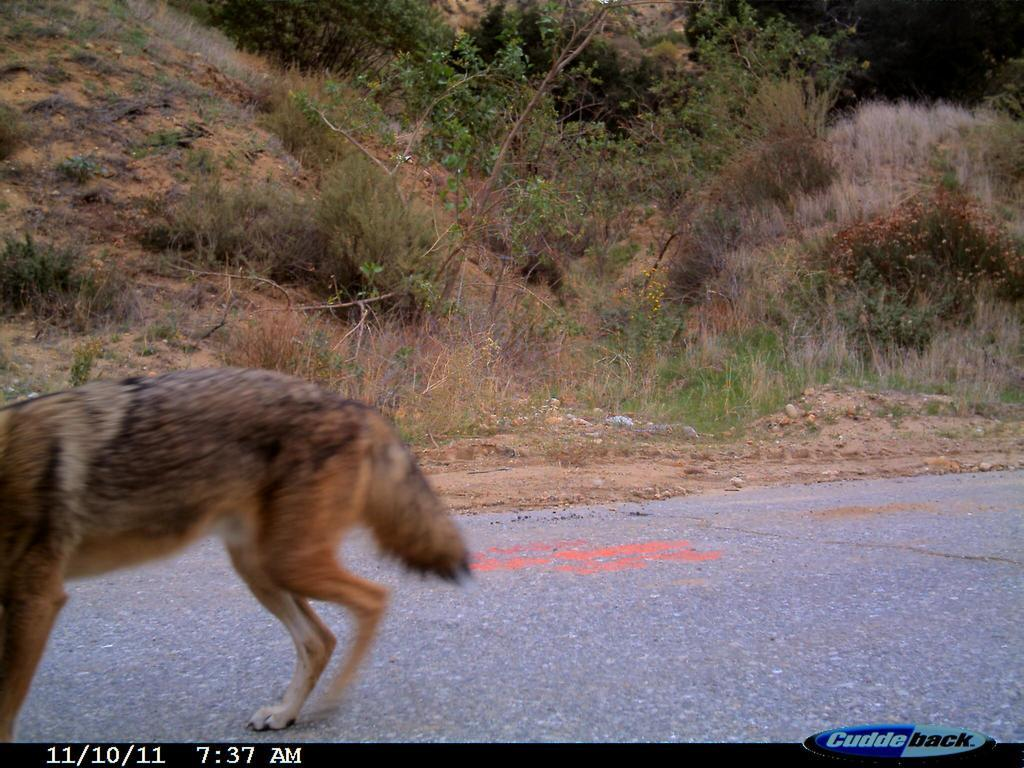coyote: (1, 361, 479, 737)
